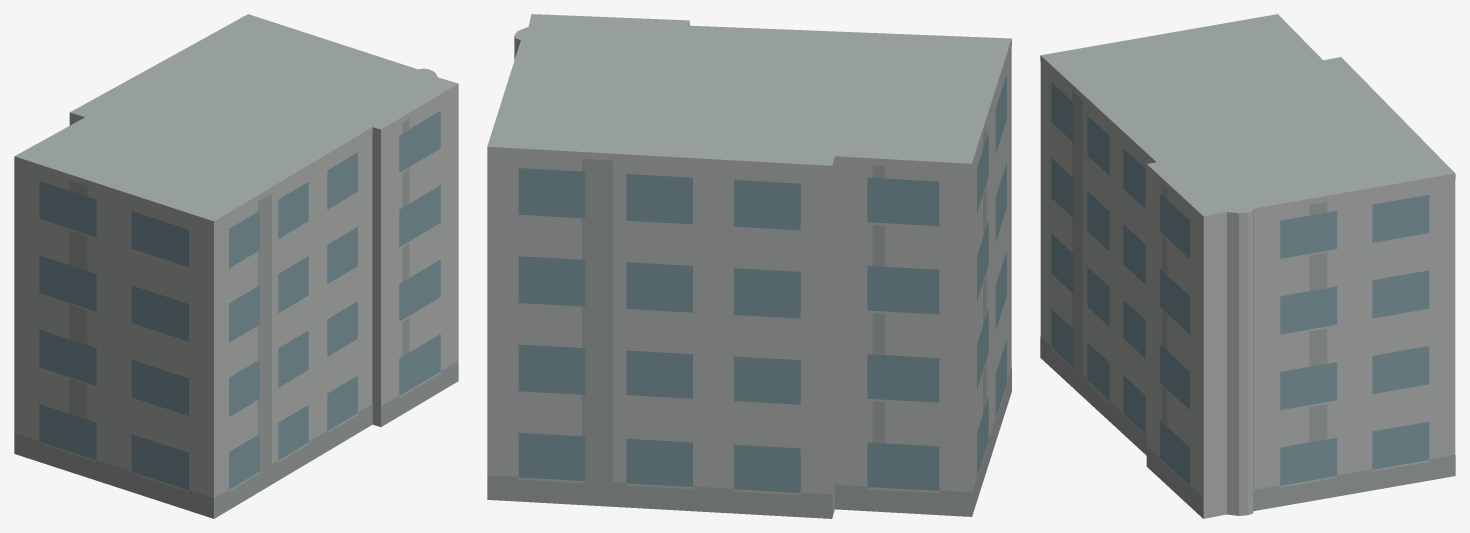
The model's file is residential-b958b340-bcc0-4b0a-b2dd-031556a0b715.glb.
3 renders of one model, left to right at view 1: azimuth 30°, elevation 25°; view 2: azimuth 150°, elevation 25°; view 3: azimuth 270°, elevation 25°, orthographic. The views are drawn at different scales.
Parts seen in each view (by area): view 1: residential-b958b340-bcc0-4b0a-b2dd-031556a0b715.tmp; view 2: residential-b958b340-bcc0-4b0a-b2dd-031556a0b715.tmp; view 3: residential-b958b340-bcc0-4b0a-b2dd-031556a0b715.tmp.
Part boxes in pixels (x1=…): residential-b958b340-bcc0-4b0a-b2dd-031556a0b715.tmp: x1=14, y1=14, x2=458, y2=518; residential-b958b340-bcc0-4b0a-b2dd-031556a0b715.tmp: x1=487, y1=14, x2=1011, y2=518; residential-b958b340-bcc0-4b0a-b2dd-031556a0b715.tmp: x1=1040, y1=14, x2=1455, y2=518.
Bounding box in the file's own units: 17.5 × 12.2 × 15.17.
